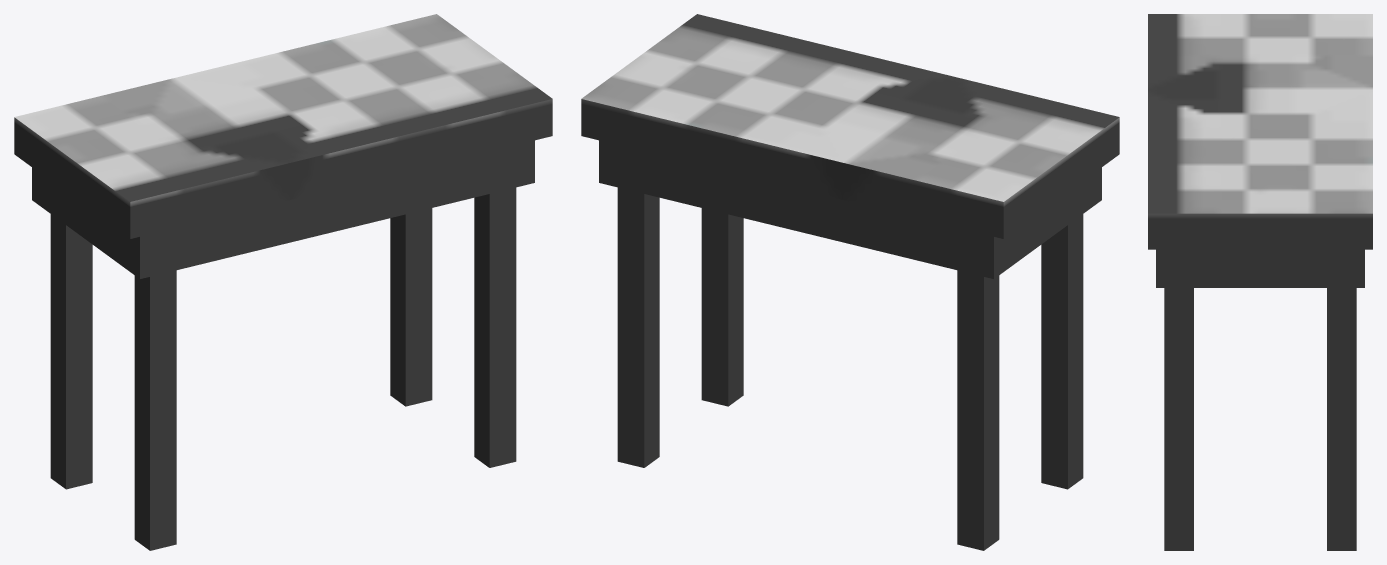
File: Building_GameOfUrBoard.obj
The picture shows the model from 3 angles, left to right: view 1: azimuth 30°, elevation 25°; view 2: azimuth 150°, elevation 25°; view 3: azimuth 270°, elevation 25°; orthographic projection. The views are drawn at different scales.
Visible parts, largest first — view 1: Body; view 2: Body; view 3: Body.
Boxes of the visible parts, bbox=[...] form: Body: bbox=[14, 14, 552, 550]; Body: bbox=[581, 14, 1119, 550]; Body: bbox=[1148, 14, 1372, 550].
Bounding box in the file's own units: 0.9531 × 0.78 × 0.4531.
Materials: 1 (1 with a texture image).
